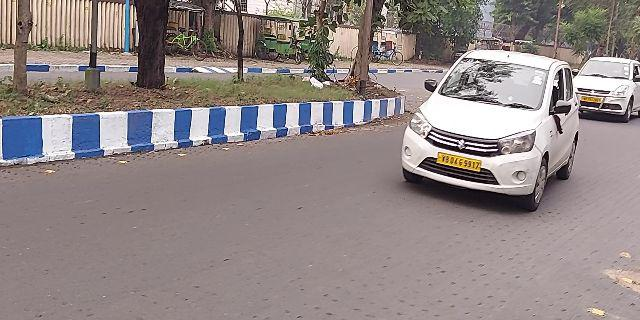Car: (399, 43, 584, 210), (578, 56, 637, 120)
